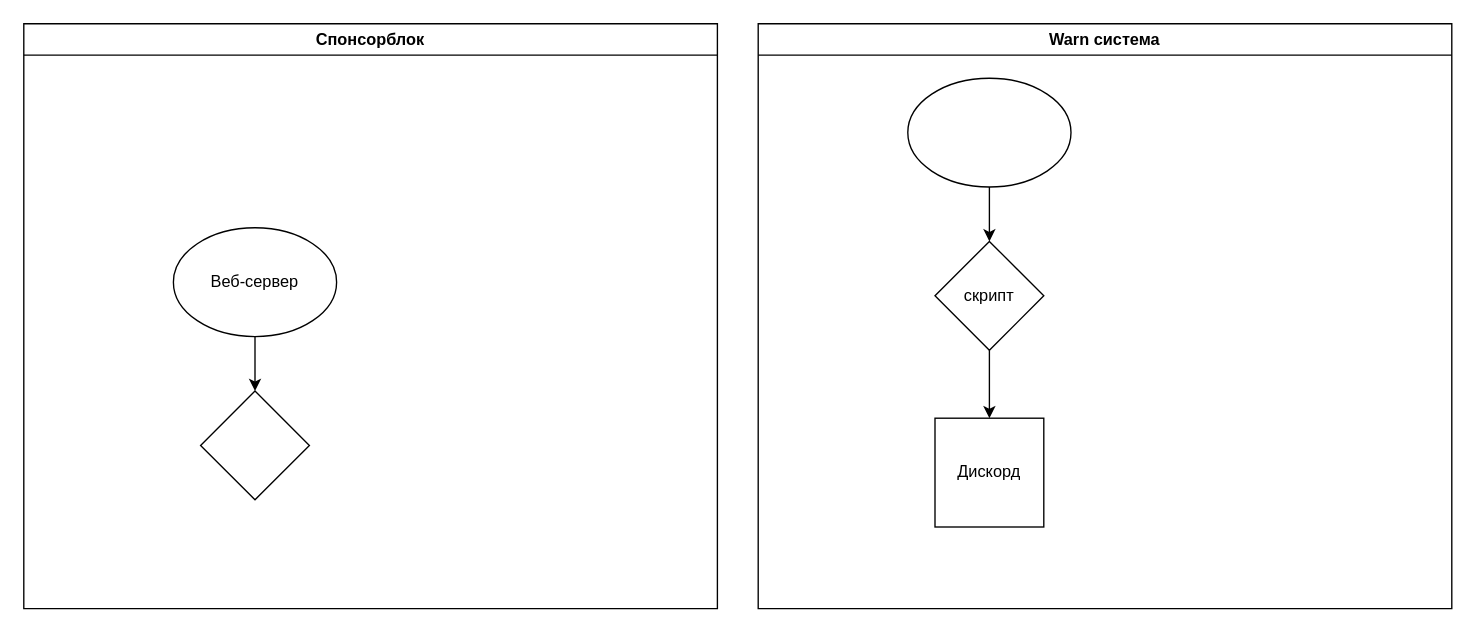
This 1476x632 diagram has some shape labels left out. The box of each missing label's shape, as (x1, y1, x2, y2) in pixels:
json: (199, 390, 309, 500)
БД: (906, 77, 1071, 187)
